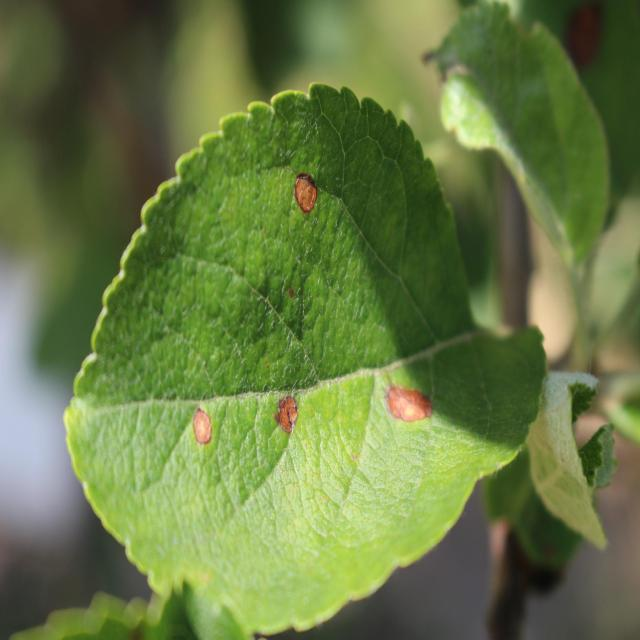frog-eye-leaf-spot: (62, 80, 550, 640)
